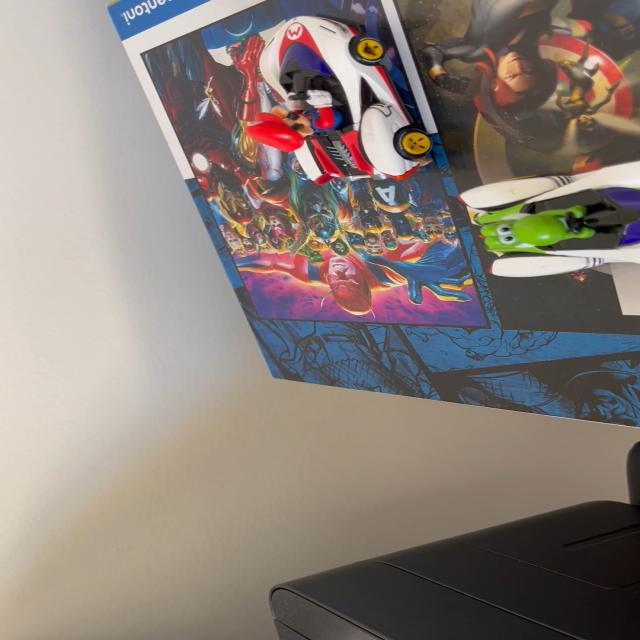mario: (238, 7, 457, 197)
yoshi: (450, 150, 640, 289)
